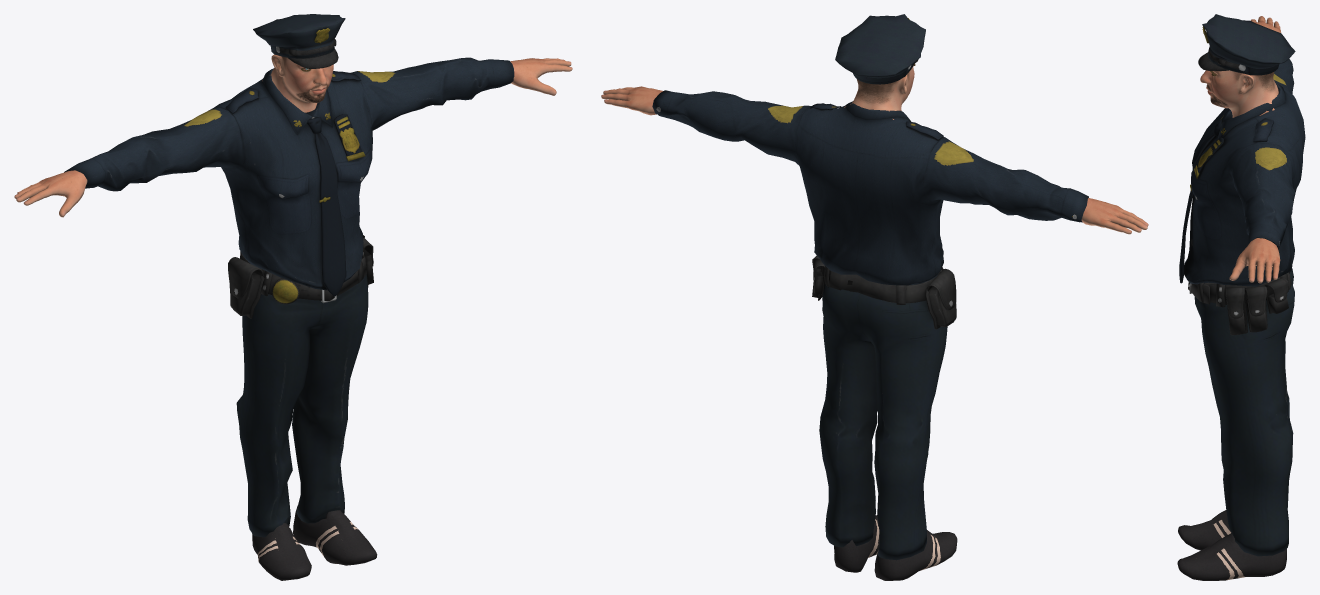
File: Police Man V2.obj
The picture shows the model from 3 angles, left to right: view 1: azimuth 30°, elevation 25°; view 2: azimuth 150°, elevation 25°; view 3: azimuth 270°, elevation 25°; orthographic projection.
Visible parts, largest first — view 1: Tops, Bottoms, Body, Shoes, Hats; view 2: Tops, Bottoms, Hats, Body, Shoes; view 3: Bottoms, Tops, Body, Shoes, Hats.
Part boxes in pixels (left/top/right/bottom): Tops: left=64, top=57, right=514, bottom=296; Bottoms: left=228, top=235, right=373, bottom=537; Body: left=14, top=54, right=572, bottom=217; Shoes: left=252, top=505, right=377, bottom=580; Hats: left=253, top=14, right=345, bottom=68; Tops: left=652, top=90, right=1088, bottom=285; Bottoms: left=812, top=255, right=956, bottom=560; Hats: left=835, top=14, right=925, bottom=84; Body: left=601, top=65, right=1148, bottom=234; Shoes: left=834, top=515, right=957, bottom=580; Bottoms: left=1188, top=265, right=1294, bottom=556; Tops: left=1179, top=58, right=1305, bottom=286; Body: left=1200, top=16, right=1281, bottom=283; Shoes: left=1177, top=510, right=1286, bottom=580; Hats: left=1198, top=14, right=1295, bottom=75.
Size of the model in its own units: 194 by 182 by 39.25.
5 materials, 5 textured.
